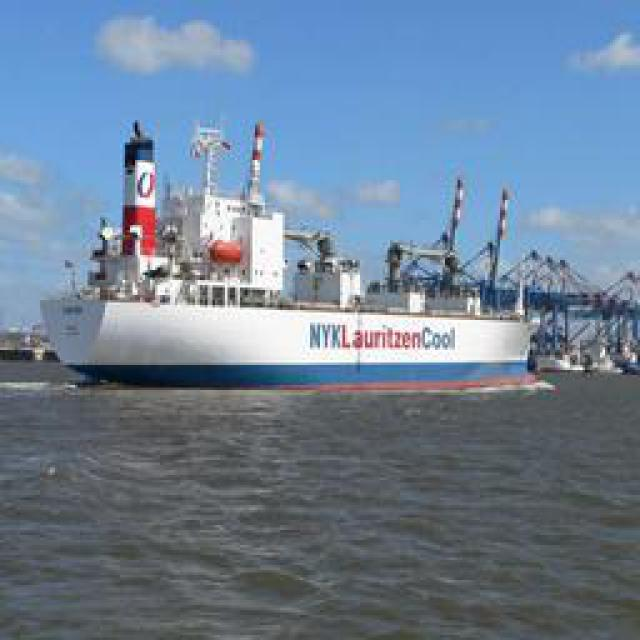Ship: (39, 113, 539, 388)
